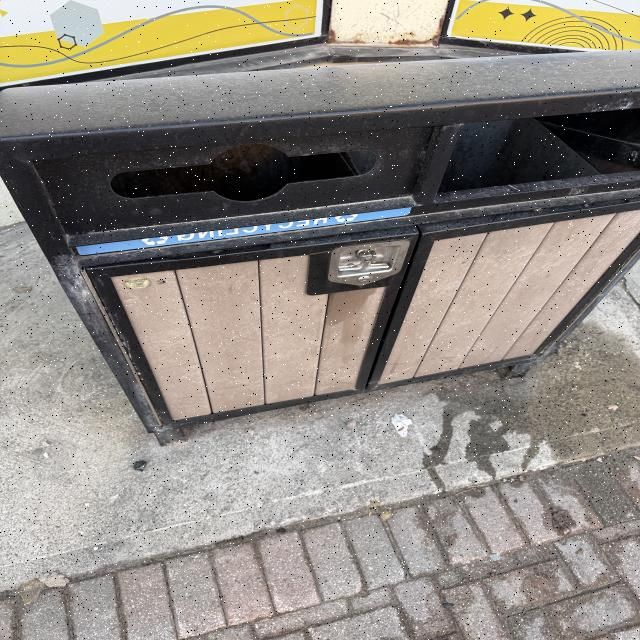Dustbin: (1, 50, 640, 442)
